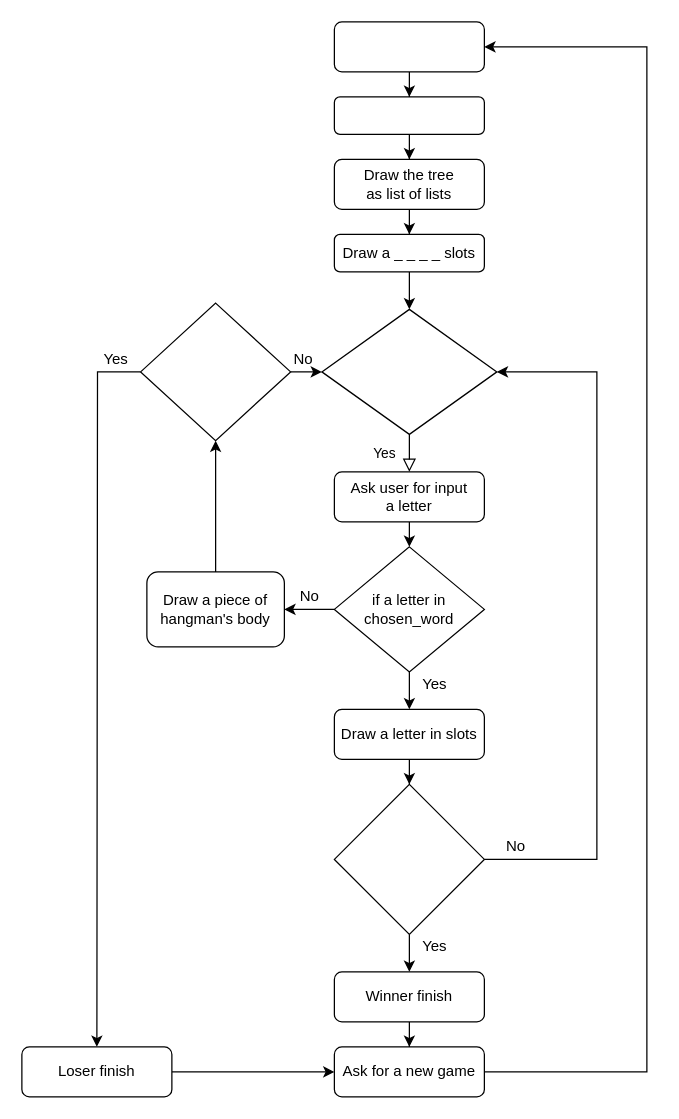
The diagram is 679 pixels wide and 1119 high, and some of its shapes have lost their labels. The shapes that lost their labels are listed below. From the top down, each one's centre as x and y in pixels, then its label:
point (408, 46): Start
point (408, 115): Random chosen_word
point (215, 371): If hangman
point (409, 371): While man is not hung in 6 tries
point (408, 858): If word is opened
